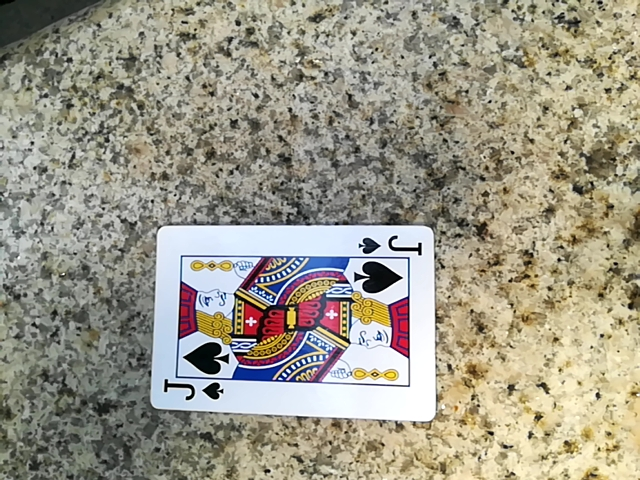ht j: (143, 230, 431, 424)
